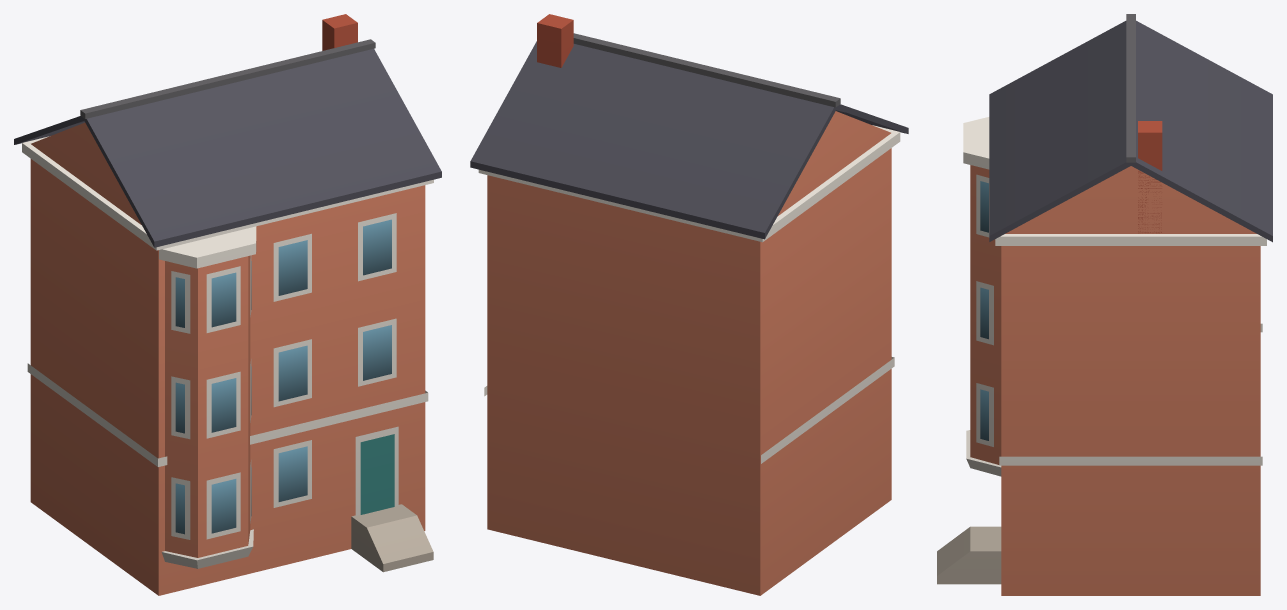
Rendered from lane_w8_far.glb.
3 views of the same model, side by side, from view 1: azimuth 30°, elevation 25°; view 2: azimuth 150°, elevation 25°; view 3: azimuth 270°, elevation 25° (orthographic). The views are drawn at different scales.
Parts seen in each view (by area): view 1: lane_w8_far; view 2: lane_w8_far; view 3: lane_w8_far.
Part boxes in pixels (x1,y1,x2,y2): lane_w8_far: (14,14,441,595); lane_w8_far: (470,14,908,595); lane_w8_far: (937,14,1272,595).
Bounding box in the file's own units: 9.8 × 14.79 × 9.71.
Materials: 1 (1 with a texture image).
